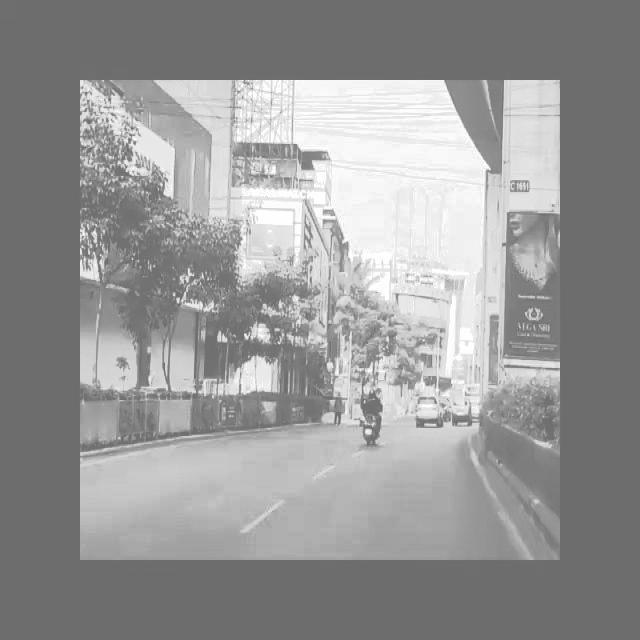Bike: (358, 388, 392, 452)
Car: (412, 386, 452, 430), (452, 398, 474, 425)
